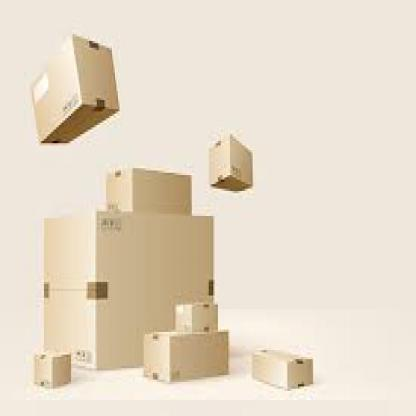paquete: (35, 200, 219, 384), (29, 9, 130, 152), (141, 325, 236, 389), (245, 332, 327, 400), (104, 166, 198, 223), (204, 112, 262, 204), (169, 293, 224, 348), (29, 343, 83, 396)
